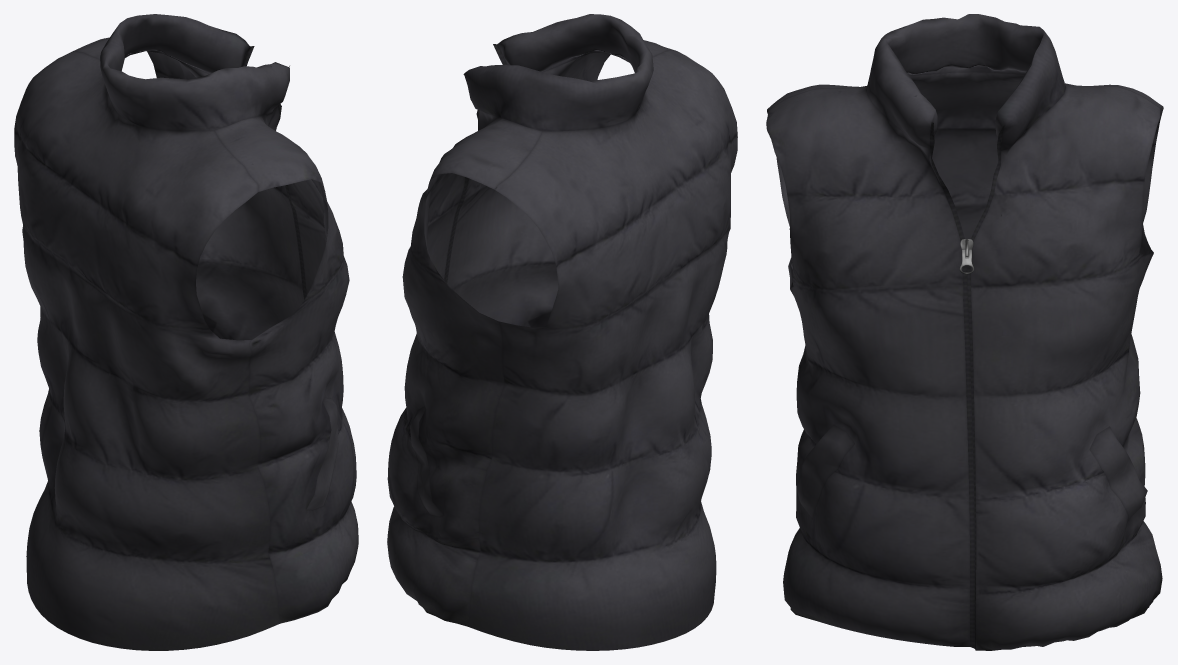
The model's file is FBX_Men's Sleevless Padded Coat.fbx.
3 renders of one model, left to right at view 1: azimuth 30°, elevation 25°; view 2: azimuth 150°, elevation 25°; view 3: azimuth 270°, elevation 25°, orthographic. The views are drawn at different scales.
Visible parts, largest first — view 1: paddedCoat; view 2: paddedCoat; view 3: paddedCoat.
Boxes of the visible parts, bbox=[...] form: paddedCoat: bbox=[14, 14, 358, 650]; paddedCoat: bbox=[387, 14, 737, 650]; paddedCoat: bbox=[766, 14, 1163, 650].
Size of the model in its own units: 37.72 by 71.89 by 44.91.
1 material, 1 textured.
